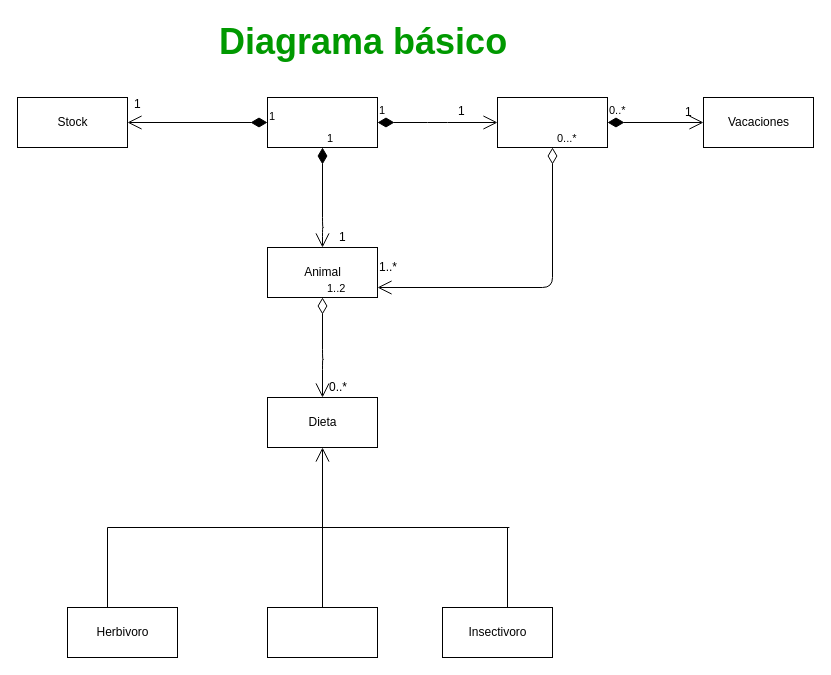
Image size: 831x675. Some labels were removed from this diagram. The centre of each missing label's shape, as x and y in pixels:
"Cuidador" goes at [552,122].
"Onmivoro" goes at [322,632].
"ZOO" goes at [322,122].
